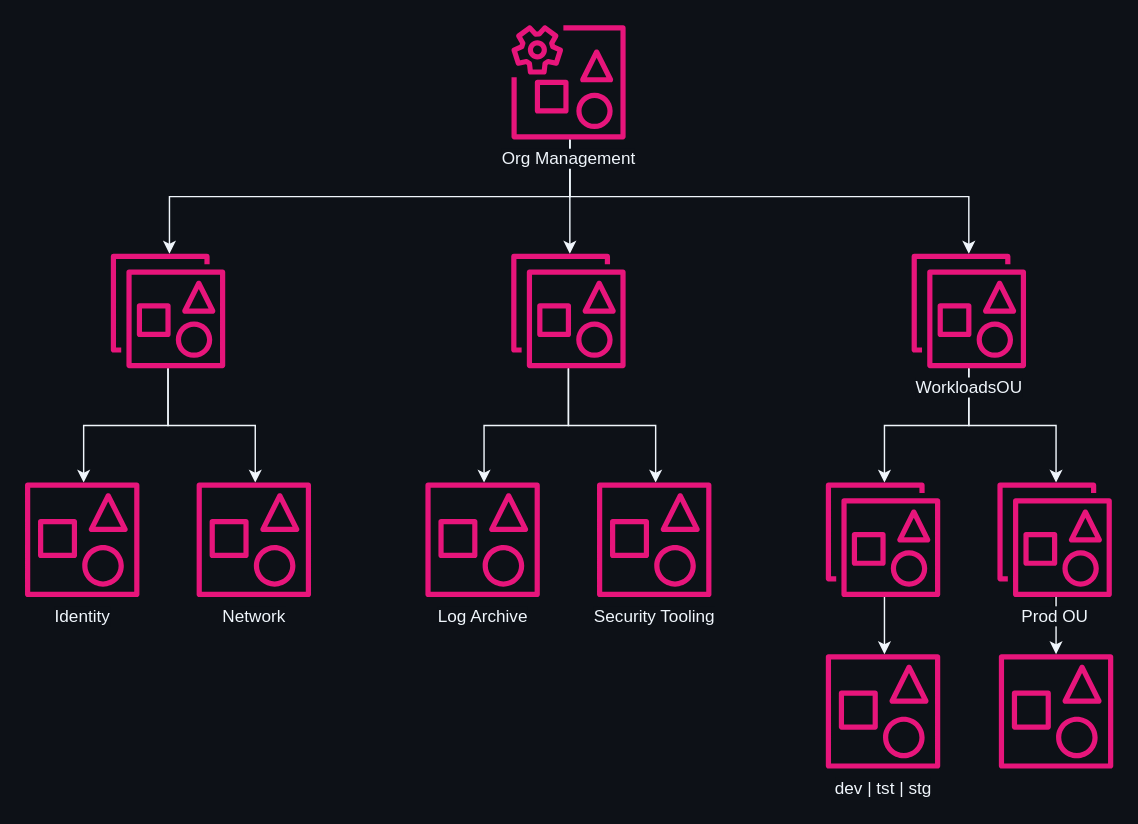
Some shapes in this 1138 by 824 pixel diagram are drawn without their labels. The shapes that lost their labels are listed below. From the top down, each one's centre as x and y in pixels, then its label:
point 167,310: Infrastructure OU
point 568,310: Security OU
point 882,539: NonProd OU
point 1055,711: prd
